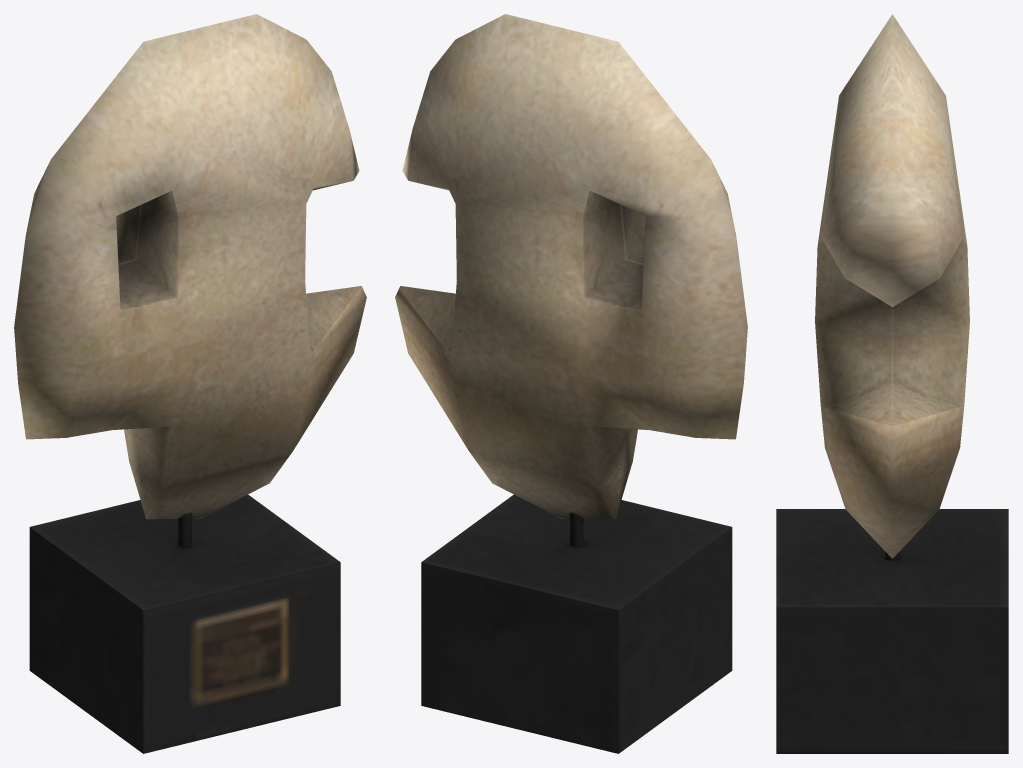
File: dub_decorative_statue1_lod1.glb
3 renders of one model, left to right at view 1: azimuth 30°, elevation 25°; view 2: azimuth 150°, elevation 25°; view 3: azimuth 270°, elevation 25°, orthographic. The views are drawn at different scales.
Parts seen in each view (by area): view 1: surf0, surf1; view 2: surf0, surf1; view 3: surf0, surf1.
Part boxes in pixels (bbox=[...]): surf0: bbox=[14, 14, 366, 519]; surf1: bbox=[29, 494, 340, 753]; surf0: bbox=[395, 14, 747, 519]; surf1: bbox=[421, 494, 732, 753]; surf0: bbox=[815, 14, 969, 558]; surf1: bbox=[776, 509, 1008, 753].
Bounding box in the file's own units: 16.9 × 30.06 × 9.44.
